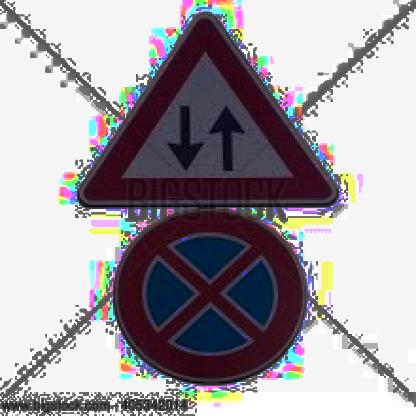No stopping: (113, 210, 305, 389)
